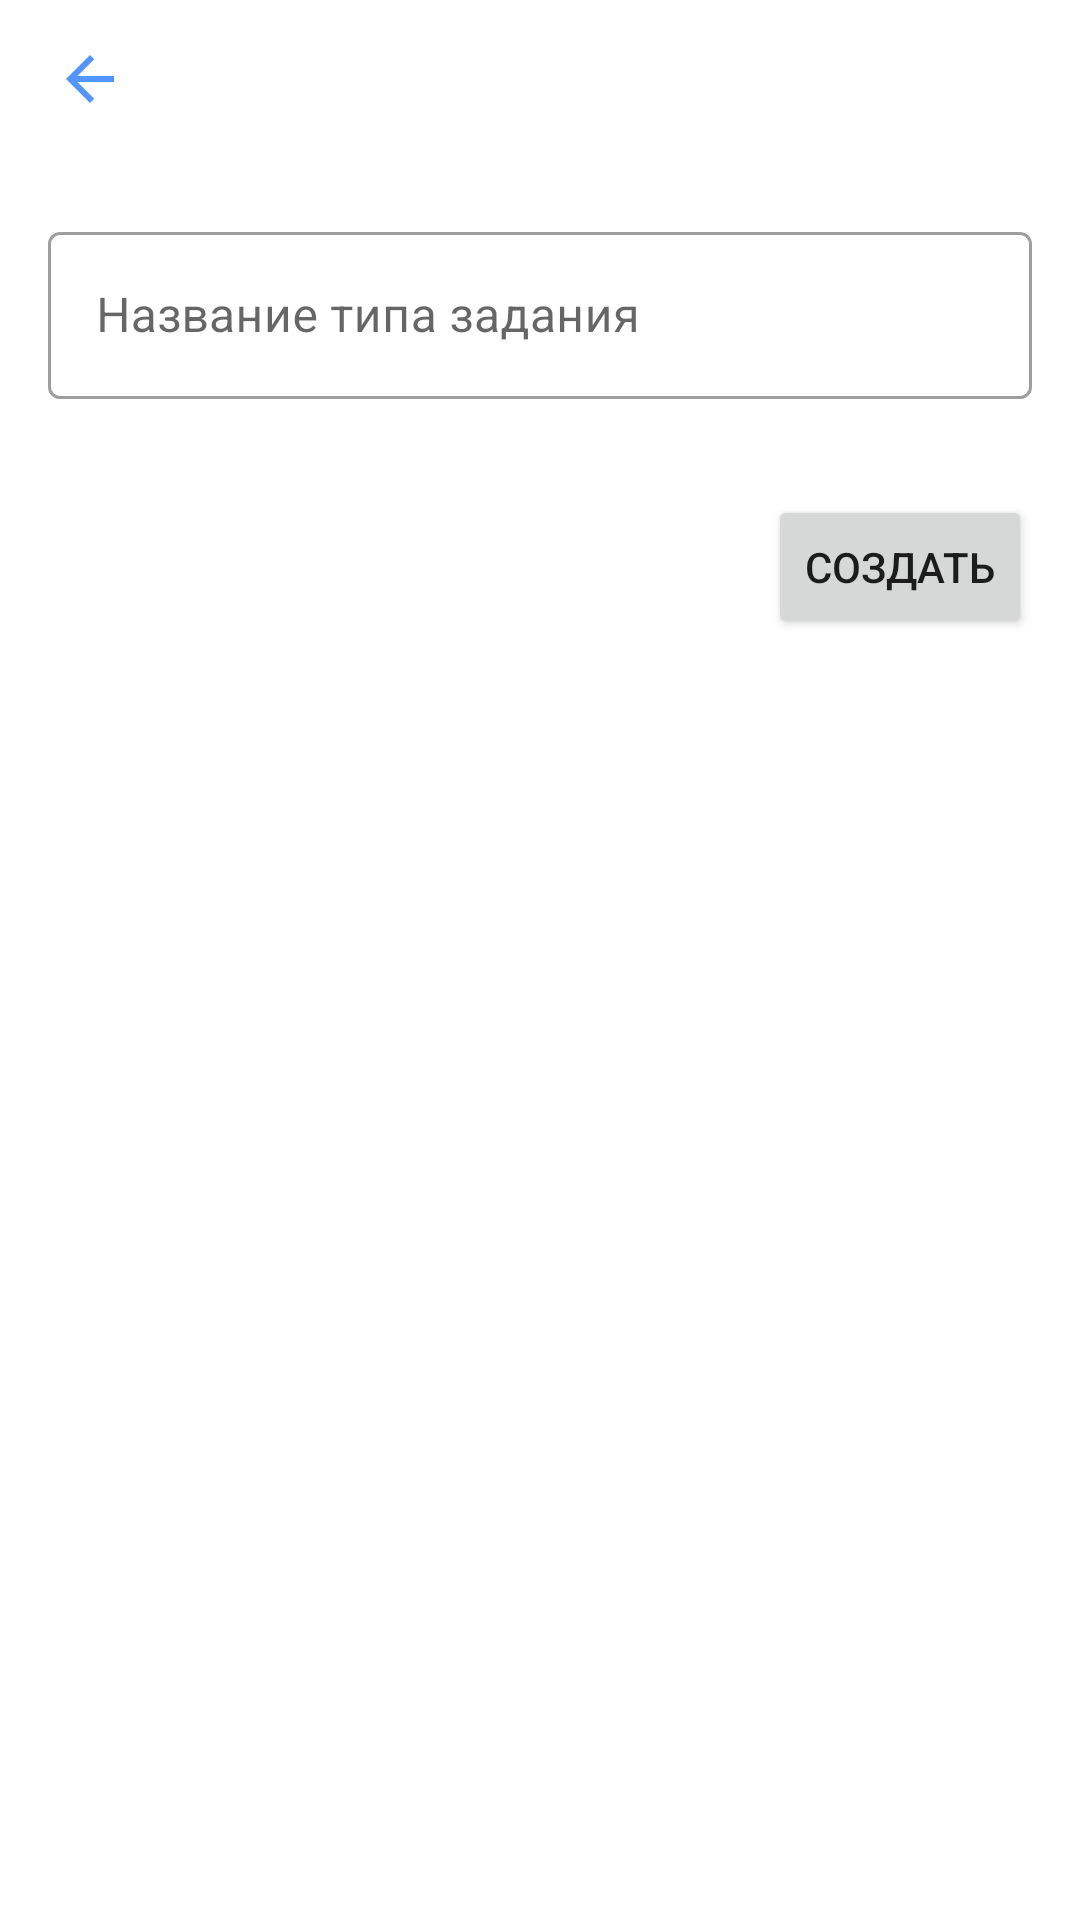

Named icons in this screenshot (1080x1920) and their bounding boxes, (x1, y1, x2, y2):
back: (66, 55, 114, 103)
